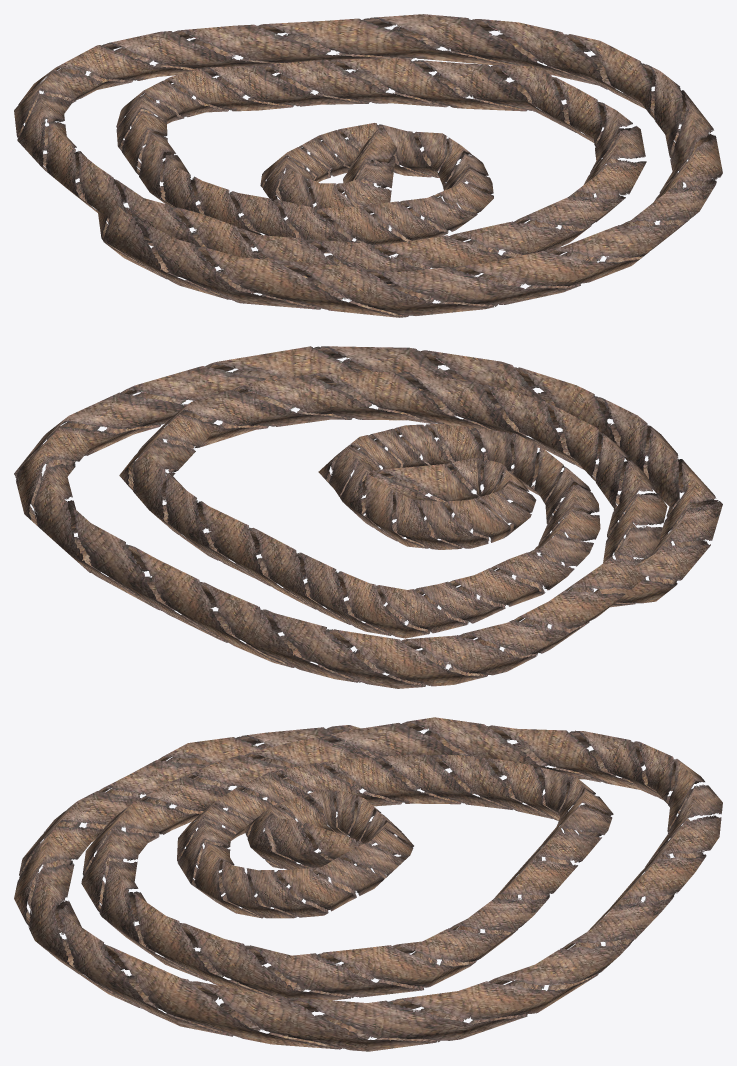
3 renders of one model, top to bottom at view 1: azimuth 30°, elevation 25°; view 2: azimuth 150°, elevation 25°; view 3: azimuth 270°, elevation 25°, orthographic. The views are drawn at different scales.
Visible parts, largest first — view 1: SM_DR_Rope_02_LOD0; view 2: SM_DR_Rope_02_LOD0; view 3: SM_DR_Rope_02_LOD0.
Part boxes in pixels (x1,y1,x2,y2): SM_DR_Rope_02_LOD0: (14, 14, 722, 317); SM_DR_Rope_02_LOD0: (14, 346, 722, 688); SM_DR_Rope_02_LOD0: (14, 717, 722, 1051).
Size of the model in its own units: 0.7522 by 0.0795 by 0.7432.
1 material, 1 textured.
